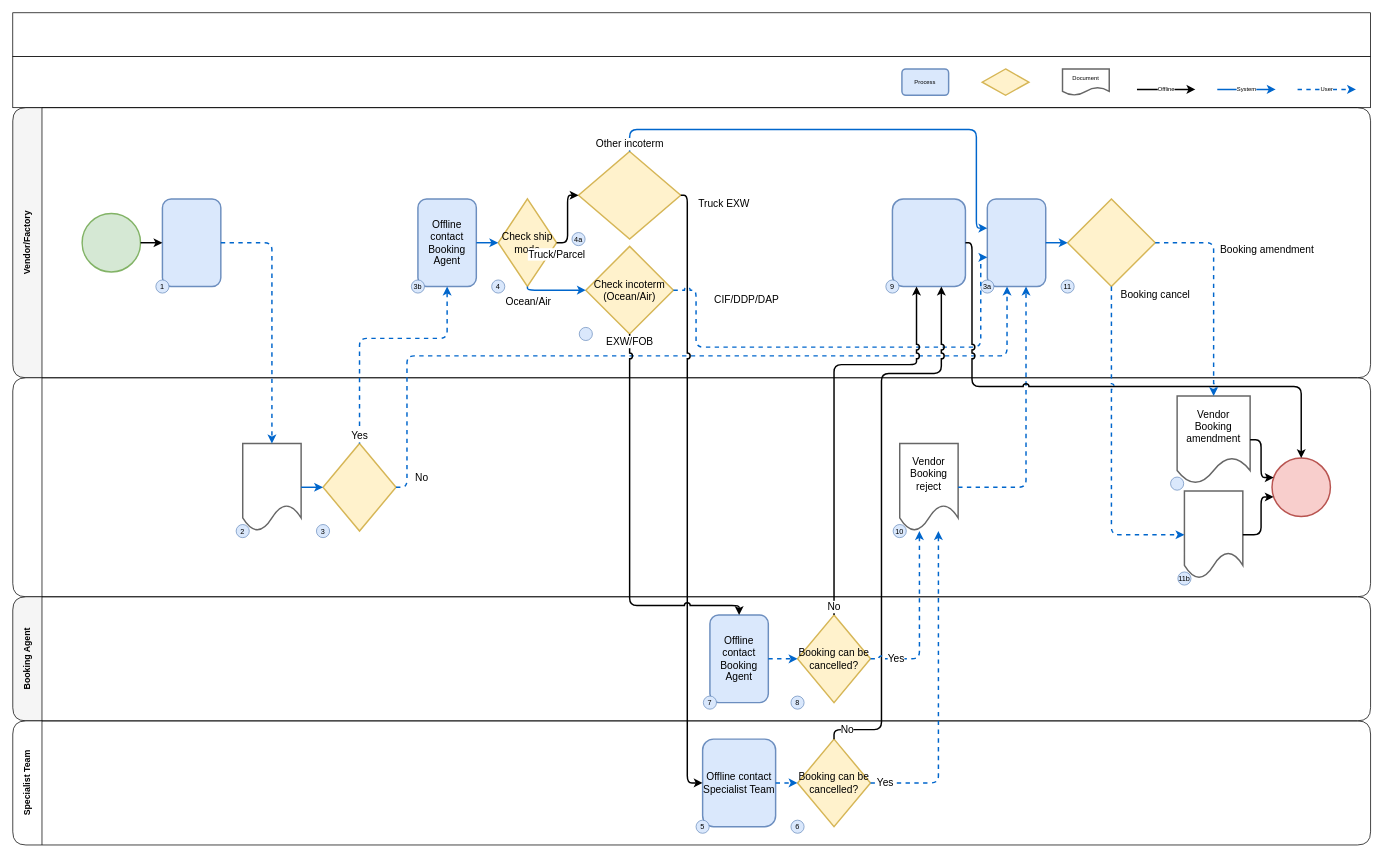
The diagram is 1383 pixels wide and 858 high, and some of its shapes have lost their labels. The shapes that lost their labels are listed below. From the top down, each one's box as (x1, y1, x2, y2) in pixels, then its label:
(12, 12, 1371, 57): SOP-002 – Booking Cancellation and Amendment
(981, 68, 1029, 96): Decision
(577, 150, 681, 239): Check incoterm (Truck/Parcel)
(81, 212, 141, 272): Booking change needed
(161, 198, 221, 287): Search vendor booking
(891, 198, 966, 287): Receive no-change notice
(986, 198, 1046, 287): Reopen or cancel booking request
(1067, 198, 1156, 287): Amendment or cancellation?
(579, 327, 592, 341): 4b
(242, 442, 301, 531): Vendor Booking status check
(322, 442, 396, 531): Status = Accepted?
(12, 377, 1371, 597): Supplier Portal
(1170, 476, 1184, 490): 11a
(1271, 457, 1331, 517): Booking updated
(1183, 490, 1243, 579): Vendor Booking cancel
